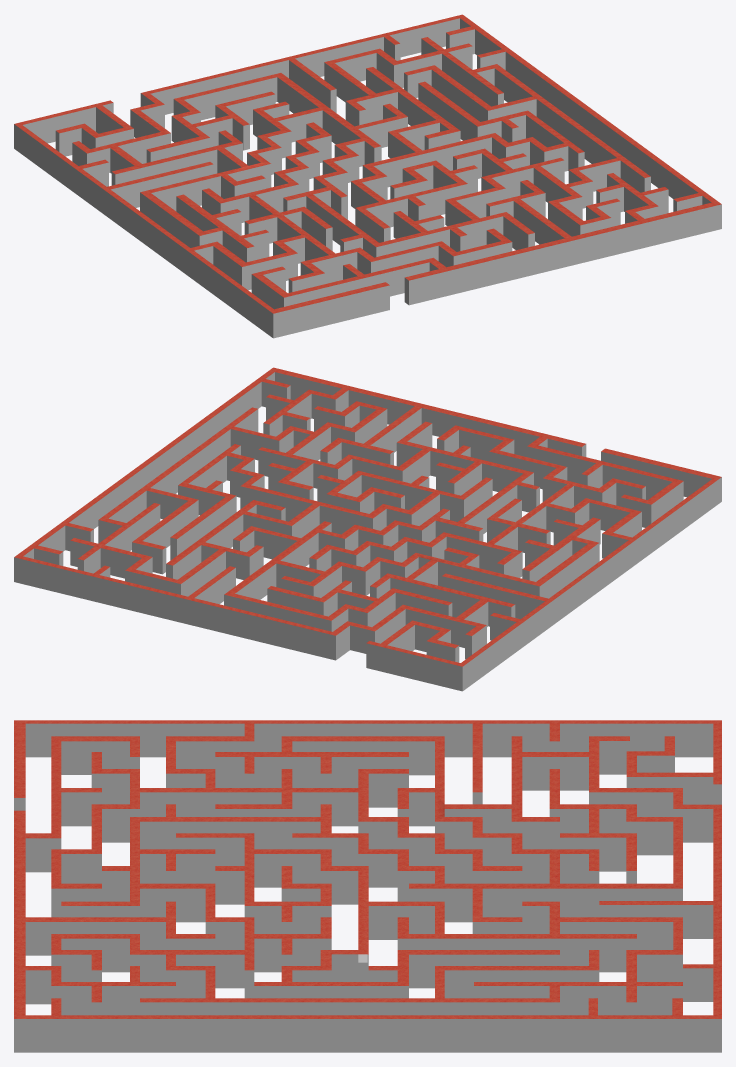
Rendered from Maze.FBX.
The picture shows the model from 3 angles, top to bottom: view 1: azimuth 30°, elevation 25°; view 2: azimuth 150°, elevation 25°; view 3: azimuth 270°, elevation 25°; orthographic projection. The views are drawn at different scales.
Parts seen in each view (by area): view 1: maze; view 2: maze; view 3: maze.
Part boxes in pixels (box(x1,y1,x2,y2)): maze: box(14, 14, 721, 338); maze: box(14, 367, 721, 691); maze: box(14, 720, 721, 1052).
Bounding box in the file's own units: 7058 × 372 × 7066.
